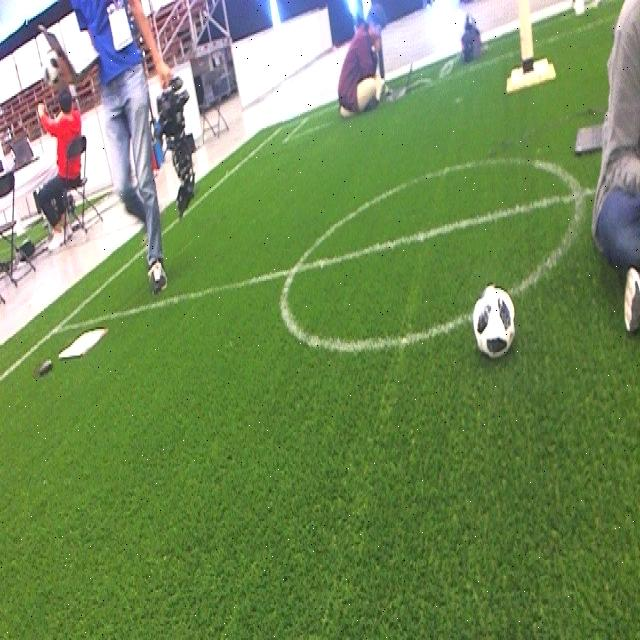ball: (473, 282, 517, 364)
goalpost: (575, 0, 586, 18)
